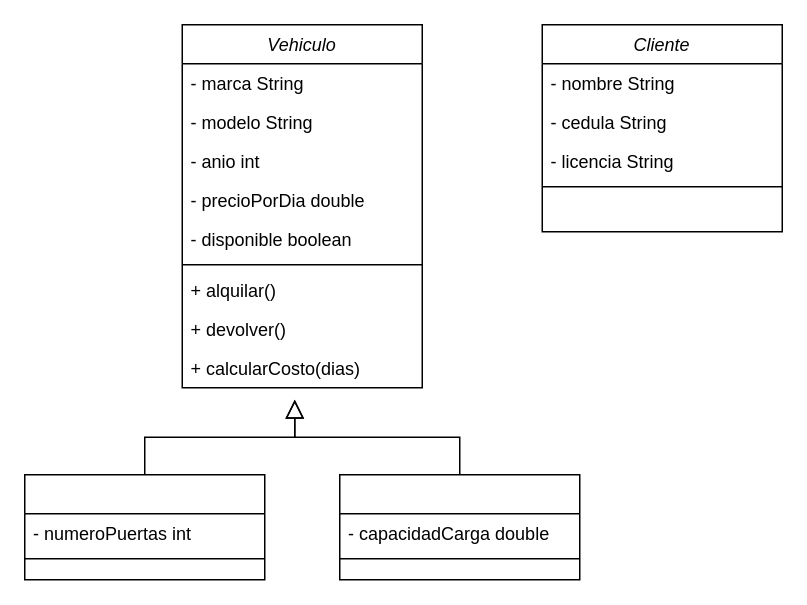
This 807x605 diagram has some shape labels left out. The box of each missing label's shape, as (x1, y1, x2, y2) in pixels:
Auto: (23, 473, 265, 580)
Camioneta: (338, 473, 580, 580)
